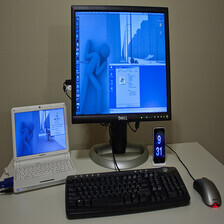laptop: (2, 102, 87, 191)
